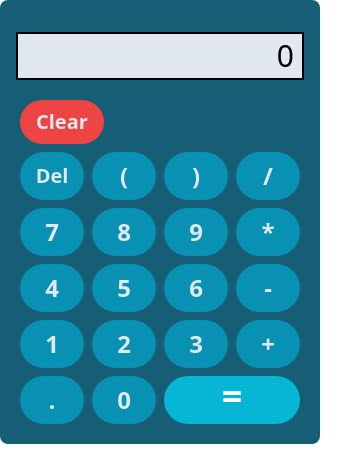
Test: Se debe verificar que se actualice la pantalla de la calculadora al presionar botones
Click the button "8" at x=124, y=232, box [92,208,156,256]
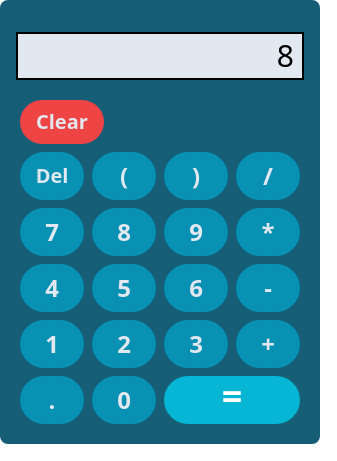
Click the button "2" at x=124, y=344, box [92,320,156,368]
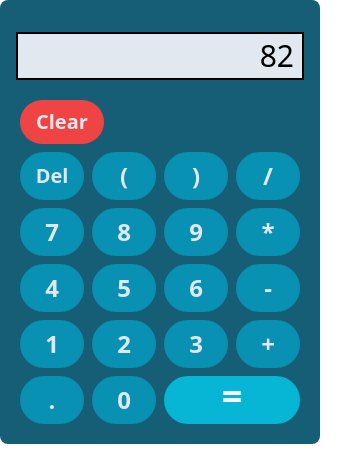
Click the button "1" at x=52, y=344, box [20,320,84,368]
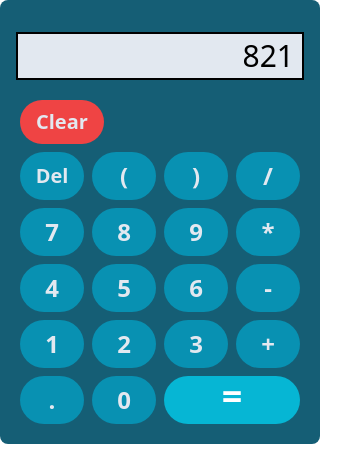
Click the button "6" at x=196, y=288, box [164,264,228,312]
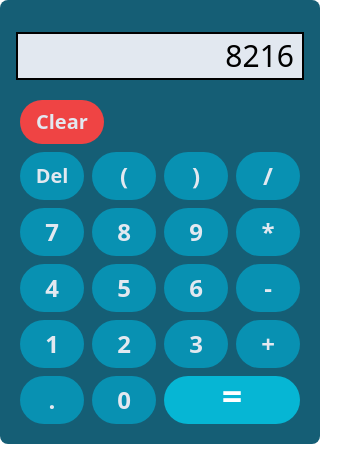
Expected: the field holds "8216", [16,32,304,80]
